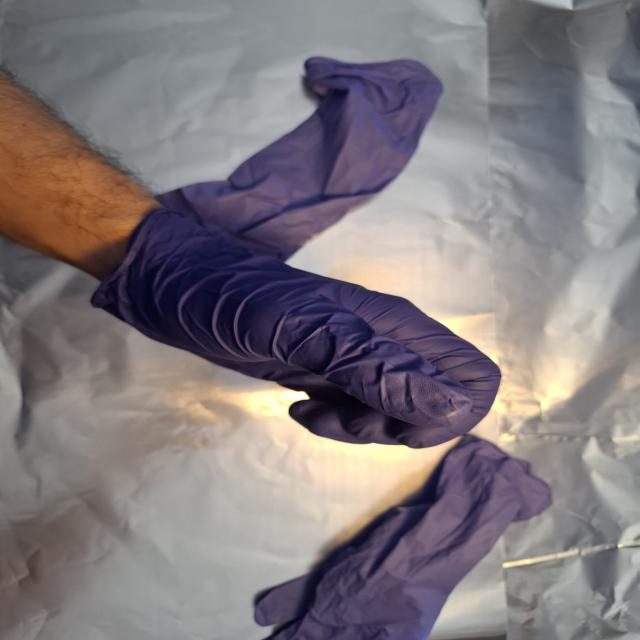glove_on: (98, 204, 508, 454)
